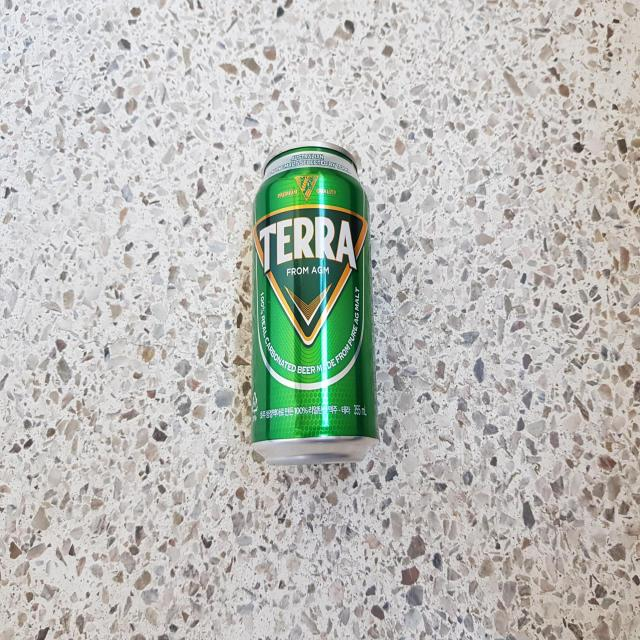can: (252, 141, 378, 465)
